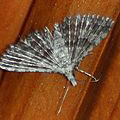Alucitidae: (1, 14, 115, 89)
moth: (1, 12, 115, 87)
